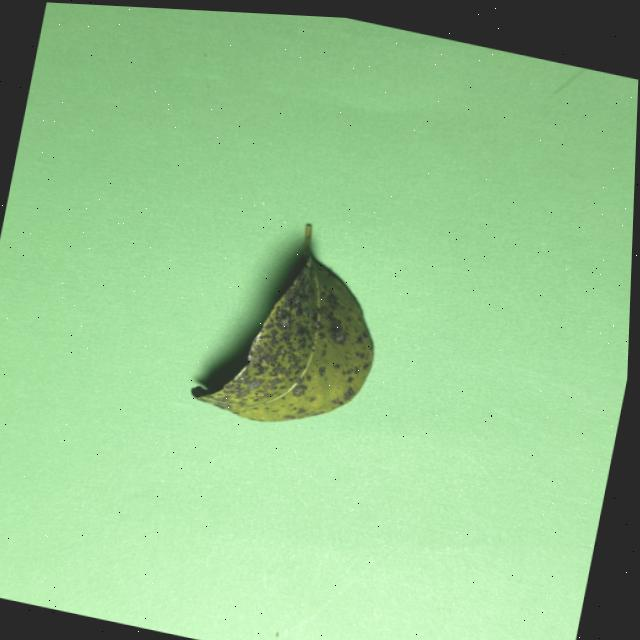sooty_mold: (192, 256, 373, 422)
